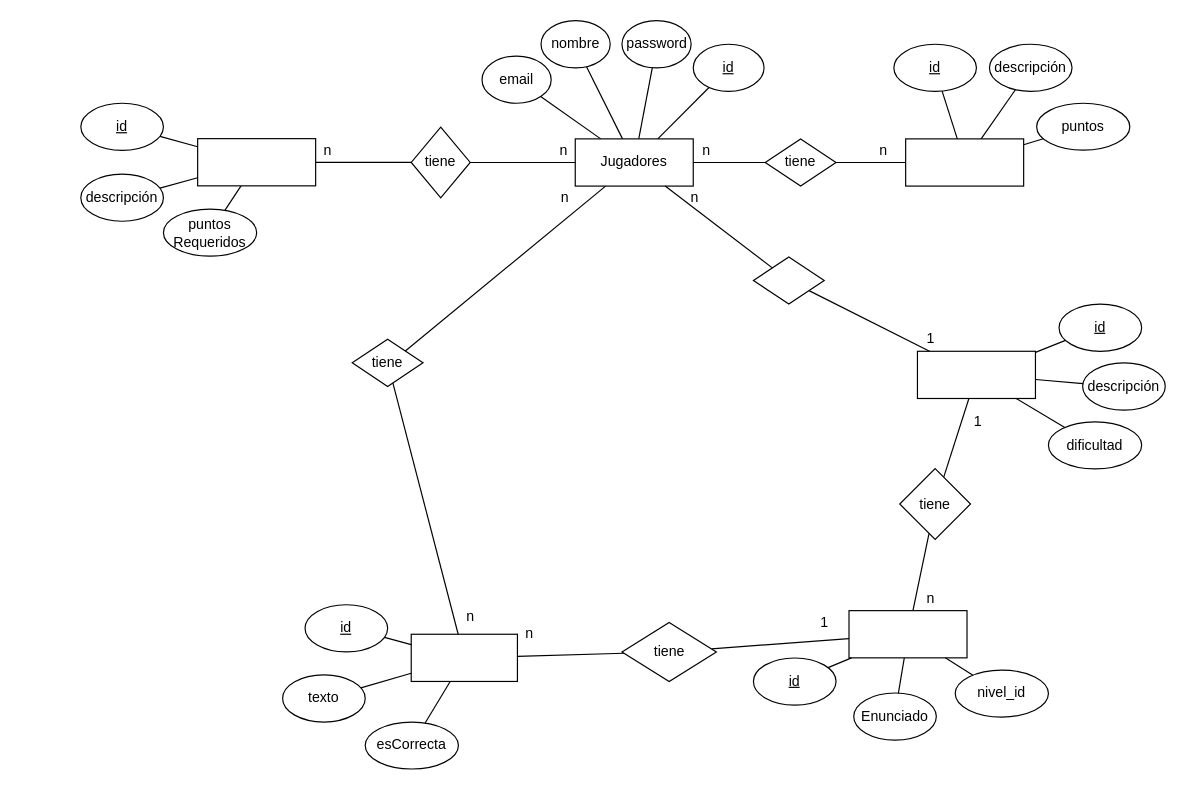
Image size: 1186x791. Some labels were removed from this diagram. The shapes that lost their labels are listed below. From the top down, each one's box as (x1, y1, x2, y2) in pixels, then its label:
(196, 137, 316, 186): Estatus
(904, 138, 1024, 186): Logros
(752, 256, 824, 304): alcanza
(916, 350, 1035, 398): Nivel
(848, 609, 967, 658): Preguntas
(410, 633, 517, 681): Opciones
